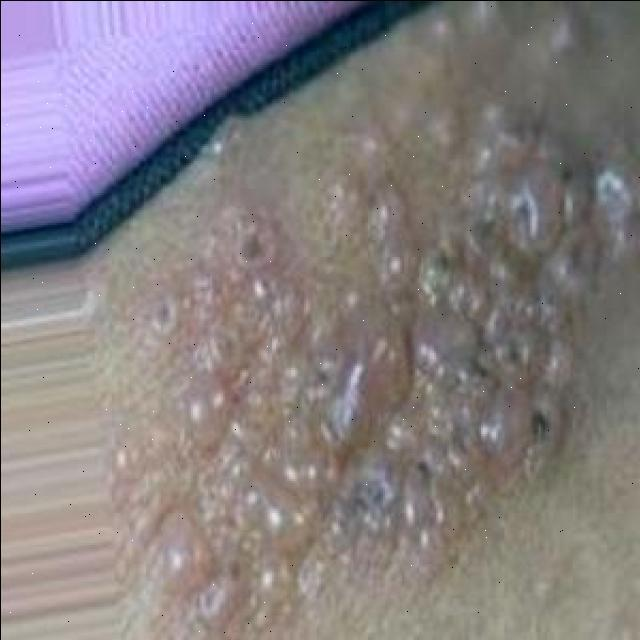Shingles: (133, 105, 602, 630)
